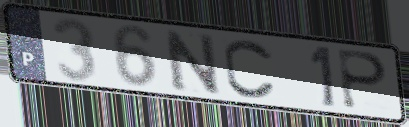1: (307, 44, 338, 111)
3: (51, 15, 102, 86)
6: (111, 22, 160, 91)
C: (221, 36, 279, 101)
N: (161, 27, 224, 96)
P: (335, 46, 390, 113)
